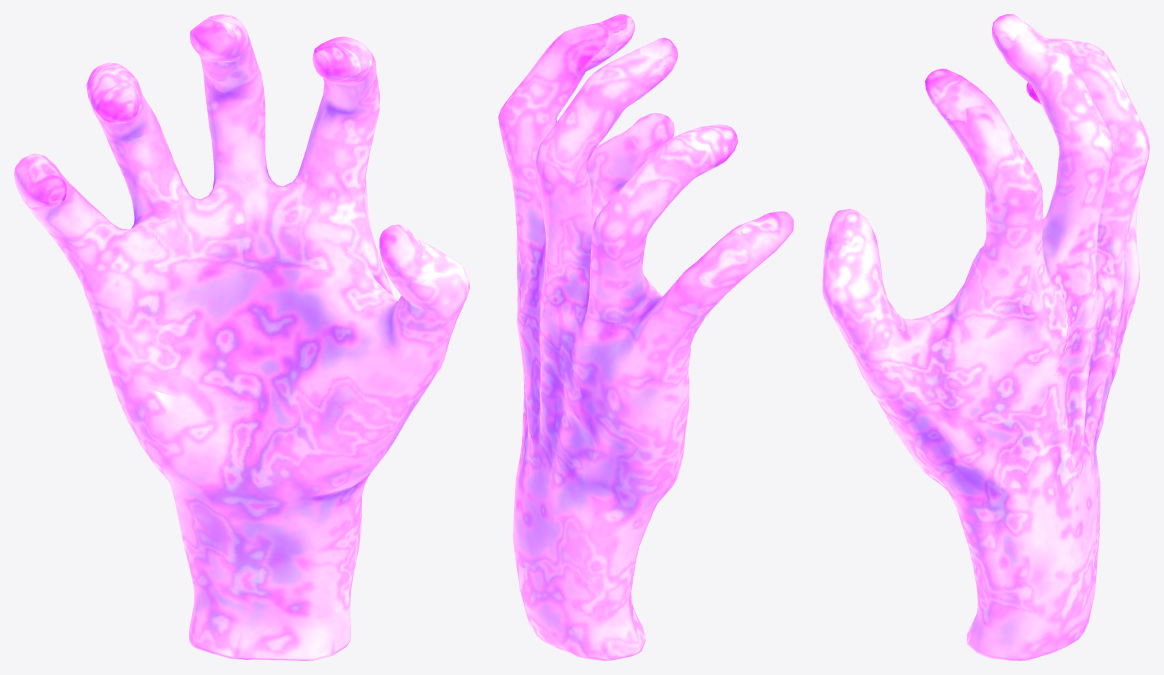
File: MZ4250 - Bigby's Hand_purple.glb
3 renders of one model, left to right at view 1: azimuth 30°, elevation 25°; view 2: azimuth 150°, elevation 25°; view 3: azimuth 270°, elevation 25°, orthographic. The views are drawn at different scales.
Parts seen in each view (by area): view 1: Creepy Hand.001; view 2: Creepy Hand.001; view 3: Creepy Hand.001.
Boxes of the visible parts, x1=… form: Creepy Hand.001: x1=14, y1=14, x2=469, y2=660; Creepy Hand.001: x1=498, y1=14, x2=793, y2=660; Creepy Hand.001: x1=822, y1=14, x2=1149, y2=660.
Size of the model in its own units: 0.9845 by 1.87 by 0.9446.
Materials: 1 (1 with a texture image).
